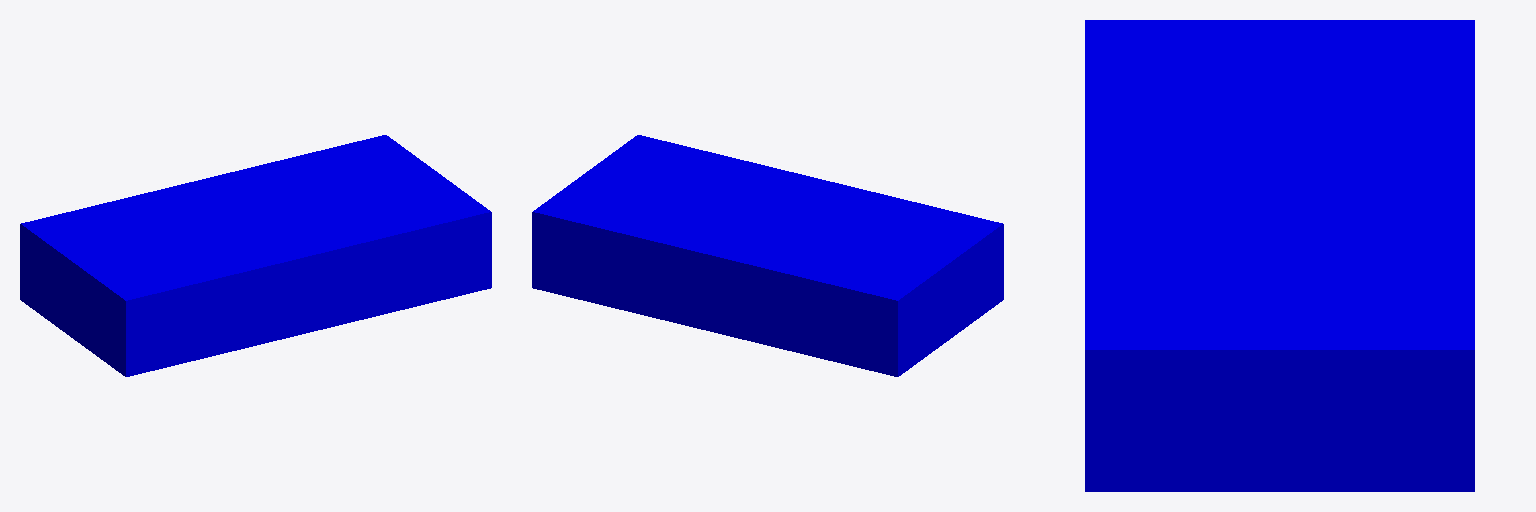
robot.urdf — bimanual_arms:
<robot name="bimanual_arms">

  <link name="table">
    <inertial>
      <origin xyz="0 0 0" rpy="0 0 0"/>
      <mass value="1.0"/> <!-- in kilograms -->
      <inertia ixx="0.001" ixy="0.0" ixz="0.0"
               iyy="0.001" iyz="0.0"
               izz="0.001"/>
    </inertial>
    <collision>
      <origin xyz="0 0 0" rpy="0 0 0"/>
      <geometry>
        <box size="1 0.5 0.2"/> <!-- X Y Z dimensions in meters -->
      </geometry>
    </collision>

    <visual>
      <origin xyz="0 0 0" rpy="0 0 0"/>
      <geometry>
        <box size="1 0.5 0.2"/>
      </geometry>
      <material name="blue">
        <color rgba="0 0 1 1"/>
      </material>
    </visual>
  </link>

</robot>

--- Facts derived from the render (not from the file) ---
3 views of the same robot in one strip: view 1: azimuth 30°, elevation 25°; view 2: azimuth 150°, elevation 25°; view 3: azimuth 270°, elevation 25° (orthographic).
Model bimanual_arms with 1 links and 0 joints (none), rooted at table, posed every joint at zero.
Visible links, largest first — view 1: table; view 2: table; view 3: table.
Link boxes in pixels (<box>): table: <box>20,135,491,376</box>; table: <box>532,135,1003,376</box>; table: <box>1085,20,1474,491</box>.
Bounding box of the posed robot: 1 × 0.5 × 0.2 m (x, y, z).
Geometry: primitives only (box / cylinder / sphere), no mesh files.